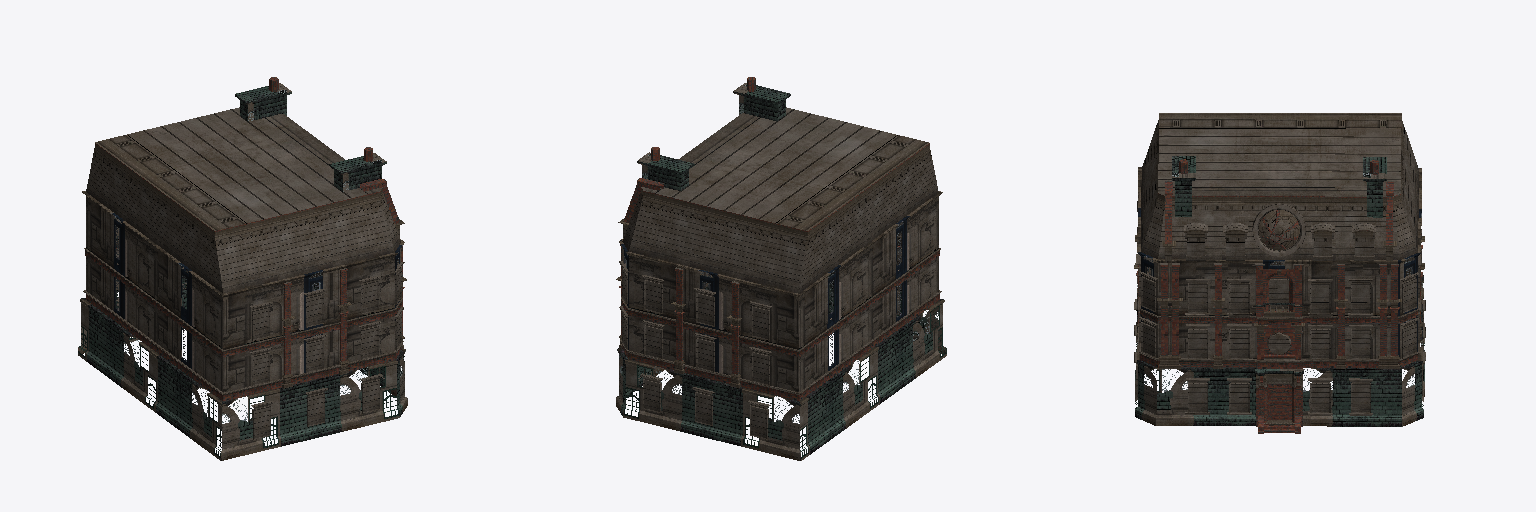
3 views of the same model, side by side, from view 1: azimuth 30°, elevation 25°; view 2: azimuth 150°, elevation 25°; view 3: azimuth 270°, elevation 25° (orthographic).
Parts seen in each view (by area): view 1: S_SC_E_Main_SanctumA01.mo_S_SC_E_Main_SanctumA01.md; view 2: S_SC_E_Main_SanctumA01.mo_S_SC_E_Main_SanctumA01.md; view 3: S_SC_E_Main_SanctumA01.mo_S_SC_E_Main_SanctumA01.md.
Part boxes in pixels (bbox=[...]): S_SC_E_Main_SanctumA01.mo_S_SC_E_Main_SanctumA01.md: bbox=[78, 77, 407, 460]; S_SC_E_Main_SanctumA01.mo_S_SC_E_Main_SanctumA01.md: bbox=[616, 77, 946, 460]; S_SC_E_Main_SanctumA01.mo_S_SC_E_Main_SanctumA01.md: bbox=[1134, 113, 1425, 433].
Size of the model in its own units: 18.27 by 20.63 by 21.62.
2 materials, 2 textured.